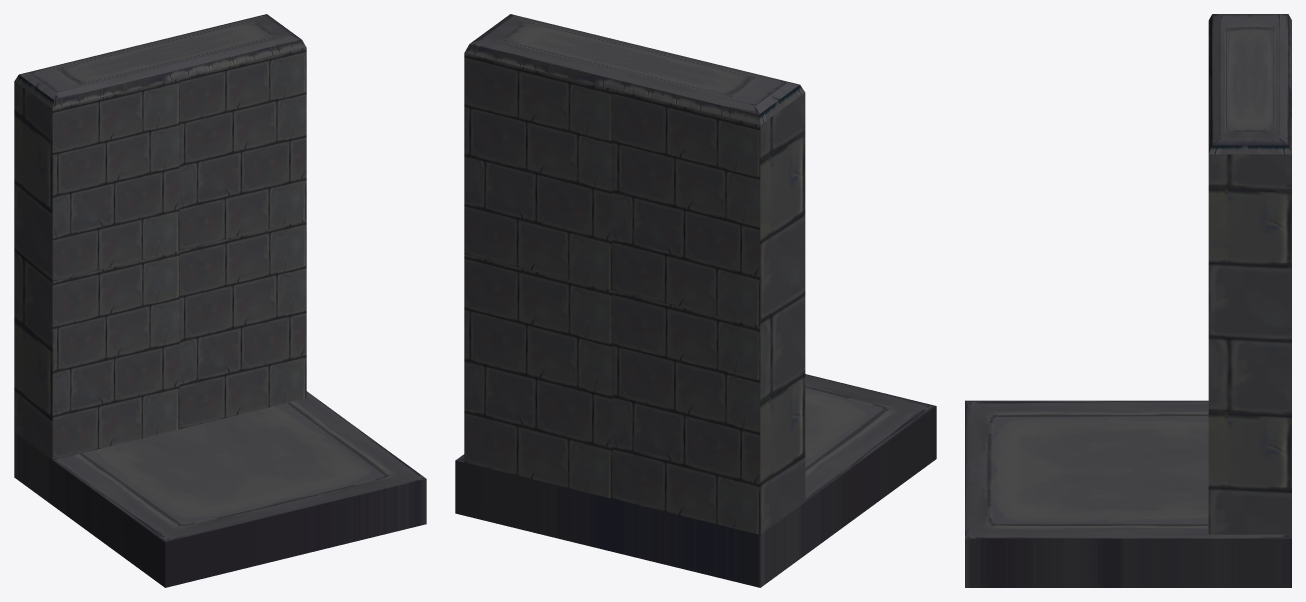
Rendered from Wall_Piece_01.glb.
3 views of the same model, side by side, from view 1: azimuth 30°, elevation 25°; view 2: azimuth 150°, elevation 25°; view 3: azimuth 270°, elevation 25° (orthographic). The views are drawn at different scales.
Parts seen in each view (by area): view 1: Plane.012, Plane.003; view 2: Plane.012, Plane.003; view 3: Plane.003, Plane.012.
Part boxes in pixels (bbox=[...]): Plane.012: bbox=[14, 14, 306, 459]; Plane.003: bbox=[14, 391, 426, 587]; Plane.012: bbox=[464, 14, 805, 534]; Plane.003: bbox=[455, 374, 936, 587]; Plane.003: bbox=[965, 400, 1291, 587]; Plane.012: bbox=[1208, 14, 1291, 534].
Size of the model in its own units: 4.05 by 6.02 by 4.05.
1 material, 1 textured.
